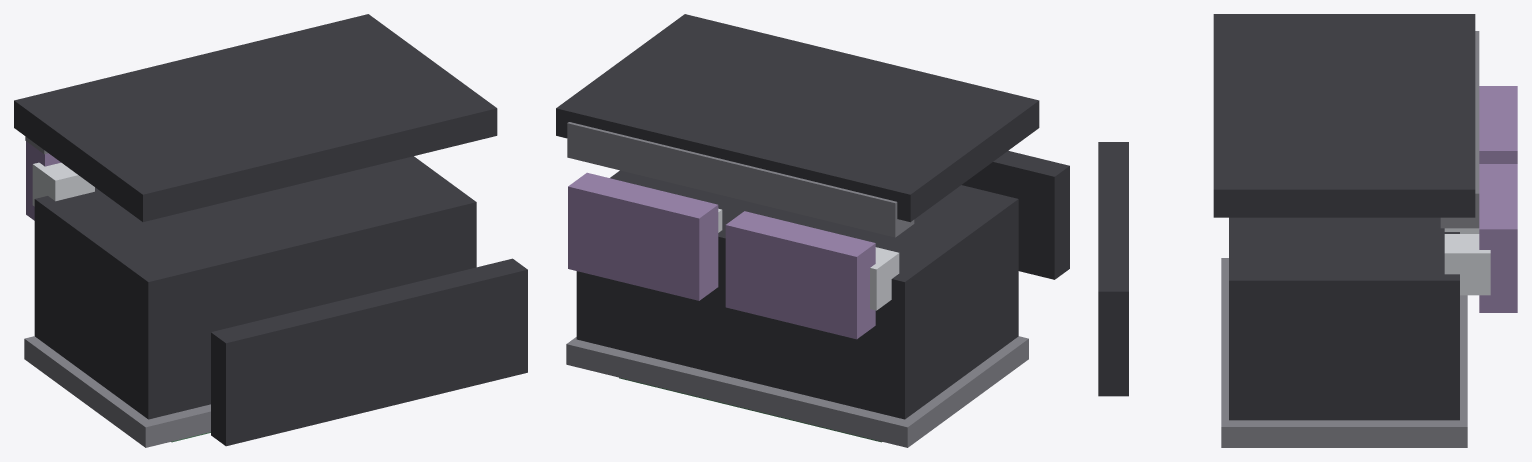
The model's file is controller_port.gltf.
3 views of the same model, side by side, from view 1: azimuth 30°, elevation 25°; view 2: azimuth 150°, elevation 25°; view 3: azimuth 270°, elevation 25° (orthographic).
Parts seen in each view (by area): view 1: controller_port; view 2: controller_port; view 3: controller_port.
Part boxes in pixels (x1,y1,x2,y2): controller_port: (14,14,527,447); controller_port: (556,14,1069,447); controller_port: (1098,14,1517,447).
Bounding box in the file's own units: 0.054 × 0.0395 × 0.0545.
